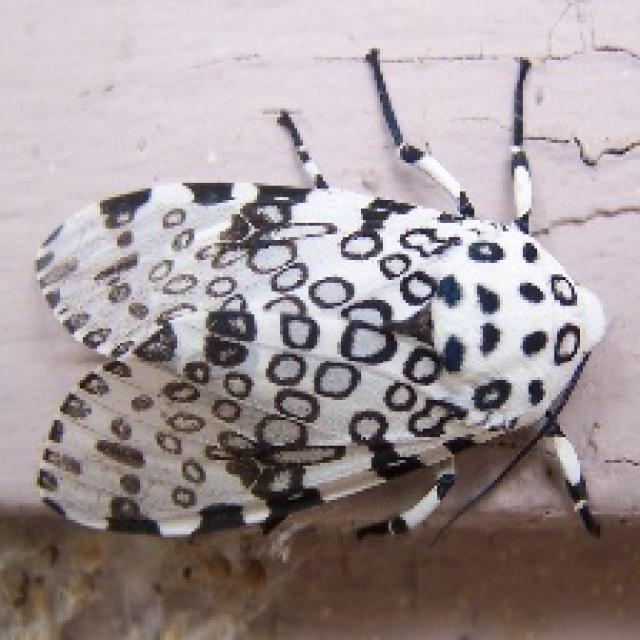butterfly: (31, 46, 606, 554)
